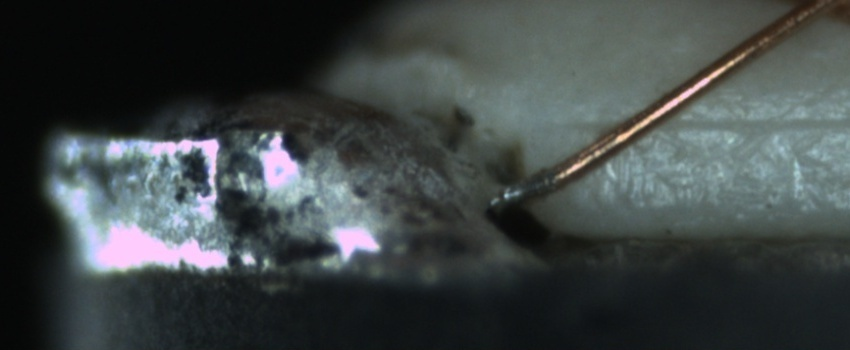CL: (775, 1, 846, 31)
DL: (561, 90, 850, 153)
TS: (493, 172, 561, 206)
